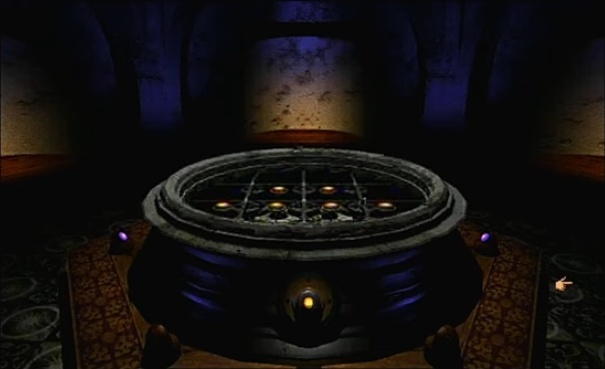Pointer: (553, 273, 574, 293)
